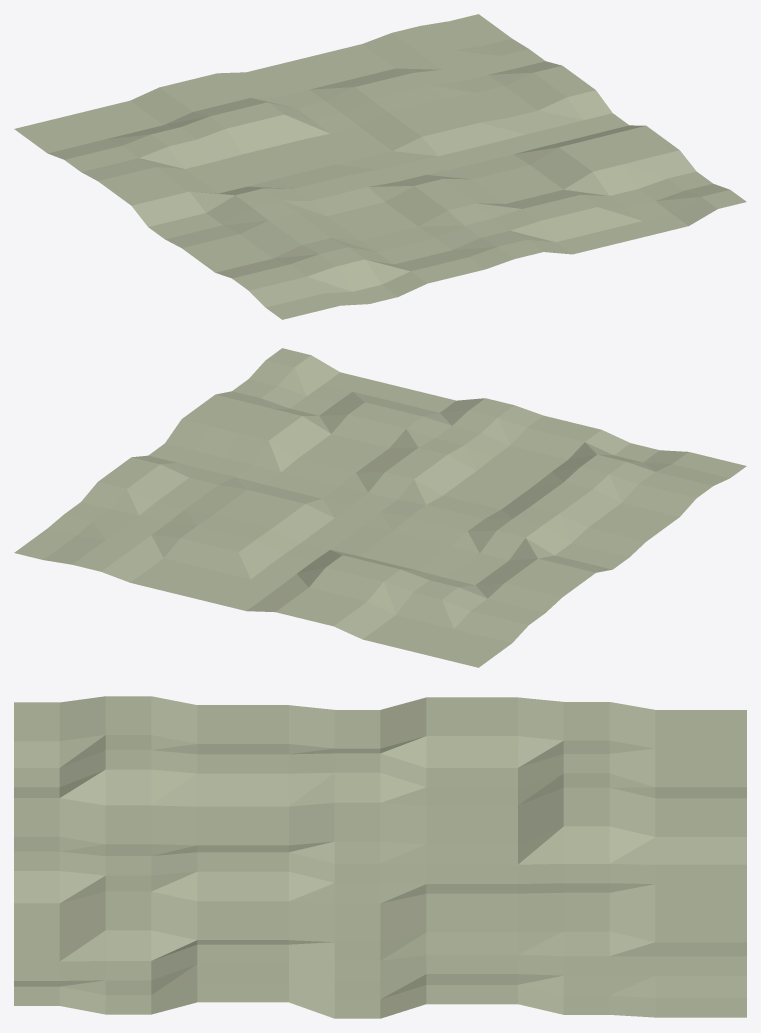
The picture shows the model from 3 angles, top to bottom: view 1: azimuth 30°, elevation 25°; view 2: azimuth 150°, elevation 25°; view 3: azimuth 270°, elevation 25°; orthographic projection. The views are drawn at different scales.
Bounding box in the file's own units: 32 × 0.9143 × 32.
